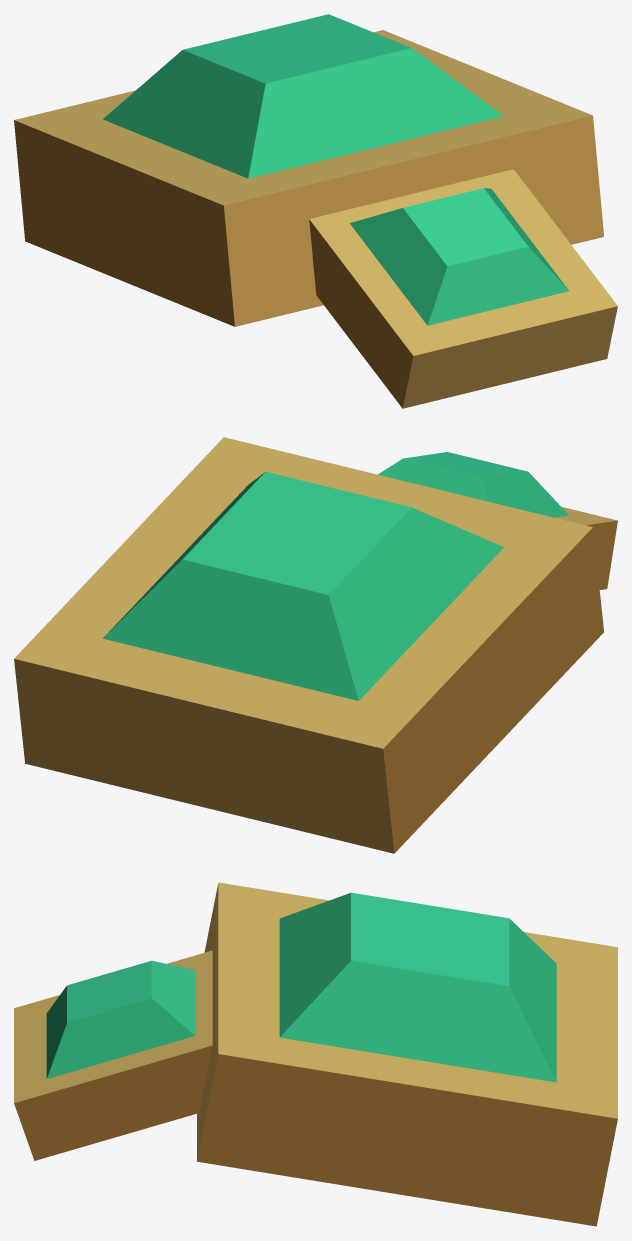
The model's file is SD_Prop_Gem_02.fbx.
3 views of the same model, one above another, from view 1: azimuth 30°, elevation 25°; view 2: azimuth 150°, elevation 25°; view 3: azimuth 270°, elevation 25° (orthographic). The views are drawn at different scales.
Parts seen in each view (by area): view 1: SD_Prop_Gem_02; view 2: SD_Prop_Gem_02; view 3: SD_Prop_Gem_02.
Part boxes in pixels (box(x1,y1,x2,y2)): SD_Prop_Gem_02: box(14, 14, 617, 408); SD_Prop_Gem_02: box(14, 437, 617, 853); SD_Prop_Gem_02: box(14, 882, 617, 1226).
Bounding box in the file's own units: 0.3088 × 0.1798 × 0.4595.
